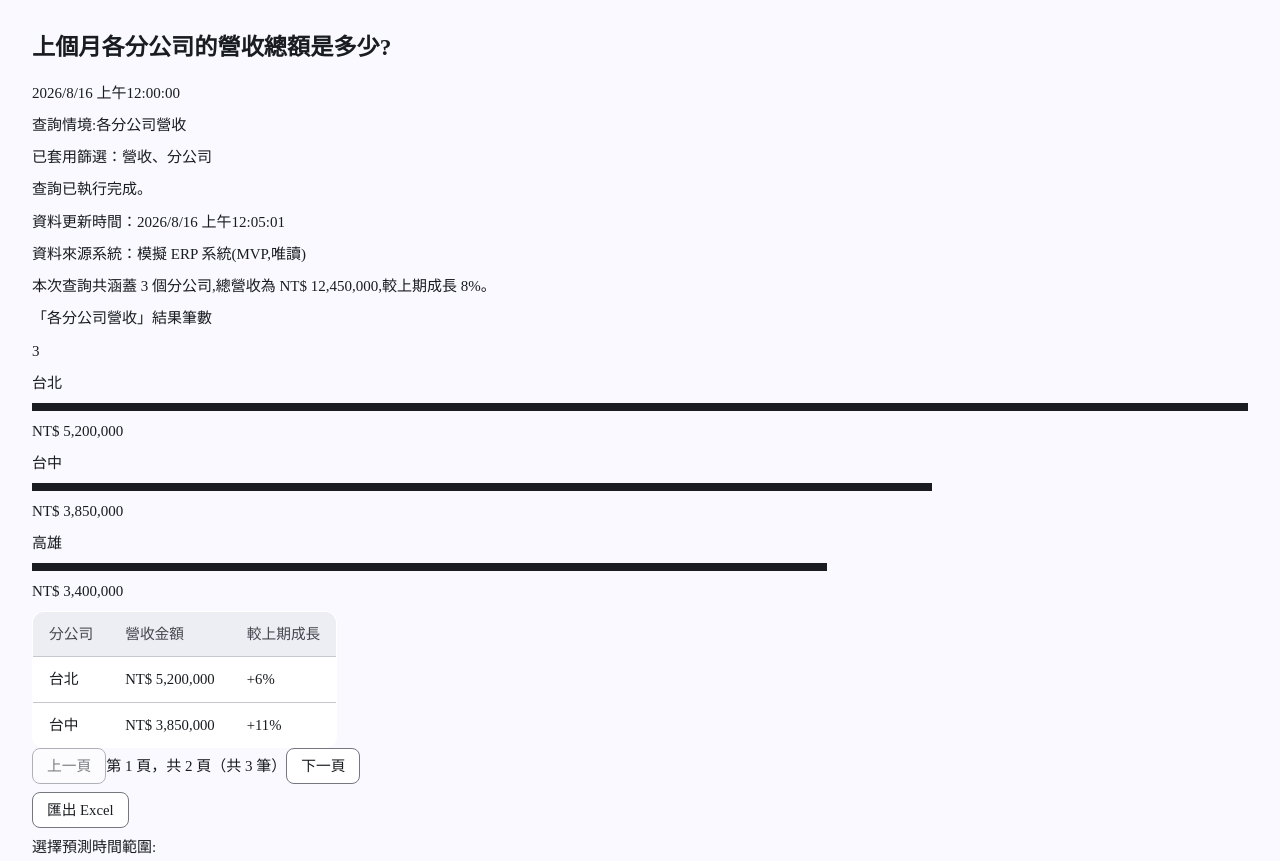
ErpQueryDetail Excel export action (E09-S016, E09-S017 progress) › E09-S017: shows a 匯出中… progress state while exporting, hiding the button
Expected: the heading "上個月各分公司的營收總額是多少?" is shown, [32,34,391,60]
Click the button "匯出 Excel" at (80,810), box [32,792,129,828]
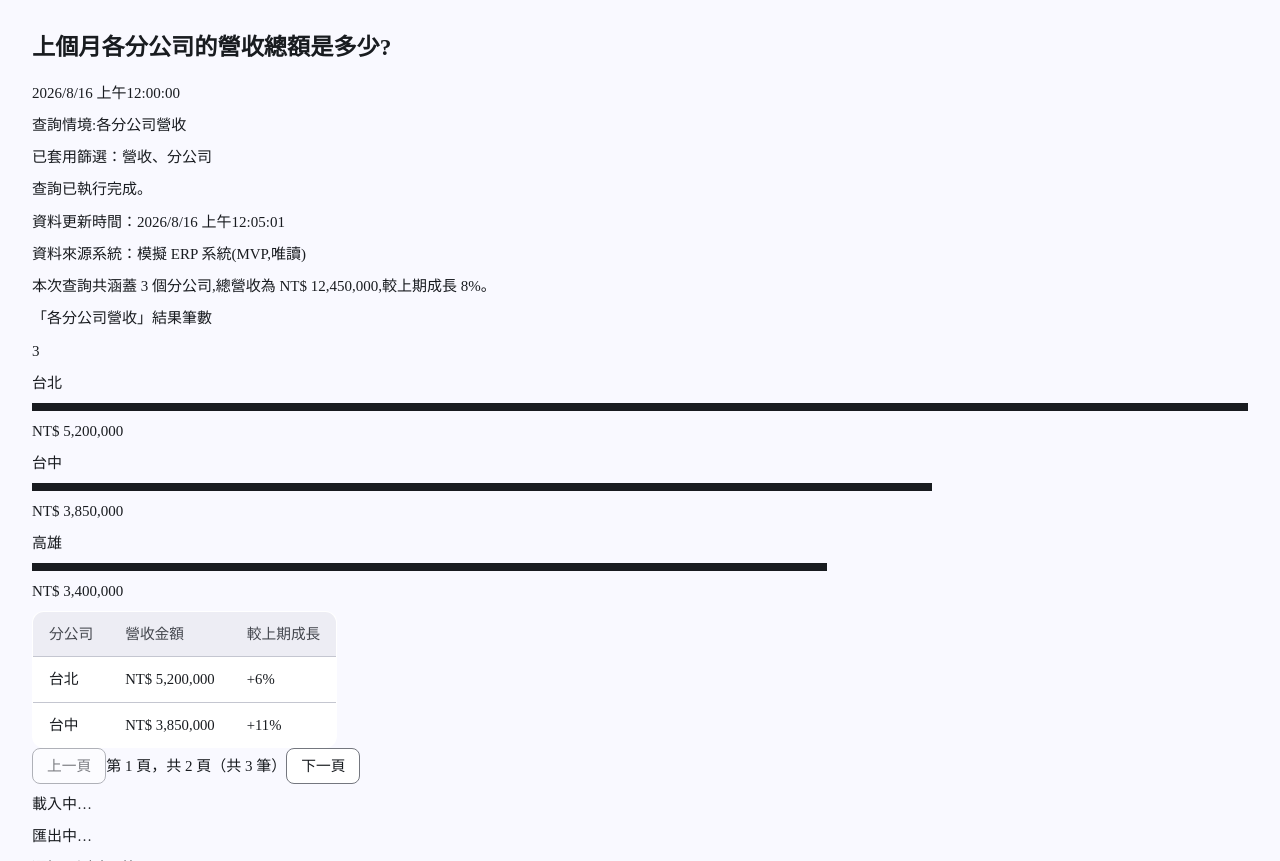
Expected: the text "匯出中…" is shown, [32,828,92,844]
Expected: the button "匯出 Excel" is gone
